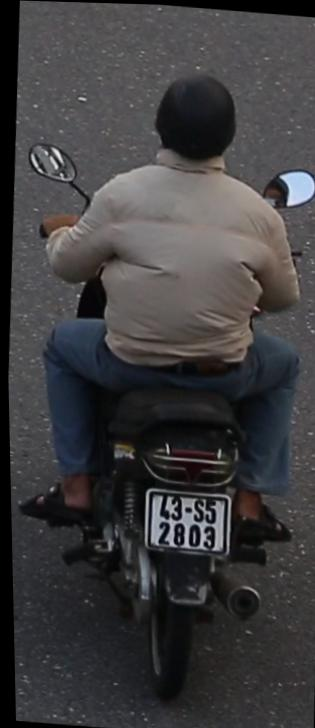LP: (134, 481, 234, 562)
helmet: (146, 59, 243, 180)
